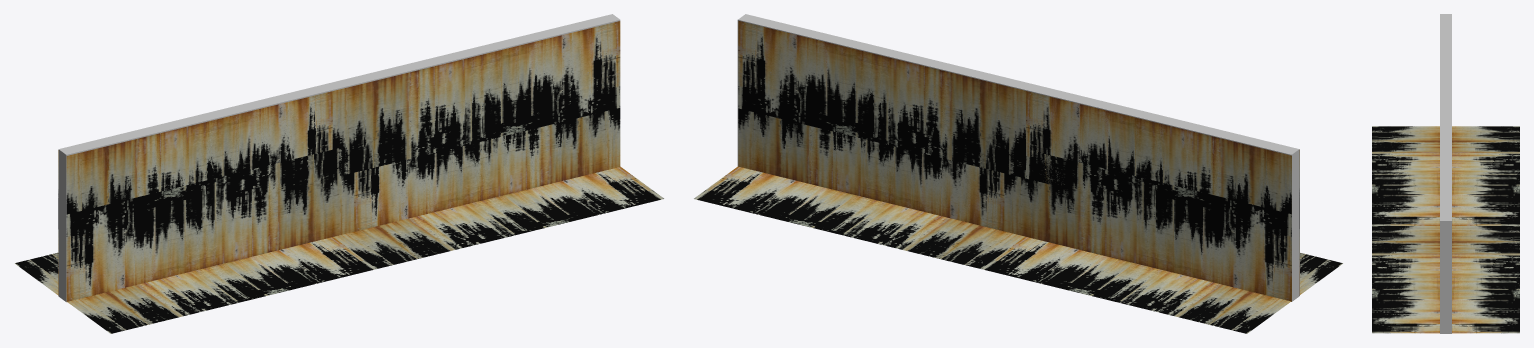
File: TiledBrick5.FBX
The picture shows the model from 3 angles, left to right: view 1: azimuth 30°, elevation 25°; view 2: azimuth 150°, elevation 25°; view 3: azimuth 270°, elevation 25°; orthographic projection. The views are drawn at different scales.
Visible parts, largest first — view 1: TiledBrick5; view 2: TiledBrick5; view 3: TiledBrick5.
Boxes of the visible parts, x1=… form: TiledBrick5: x1=15, y1=14, x2=664, y2=333; TiledBrick5: x1=694, y1=14, x2=1342, y2=333; TiledBrick5: x1=1372, y1=14, x2=1519, y2=333.
Size of the model in its own units: 869 by 221 by 262.
